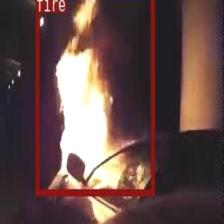fire: (35, 0, 153, 194)
